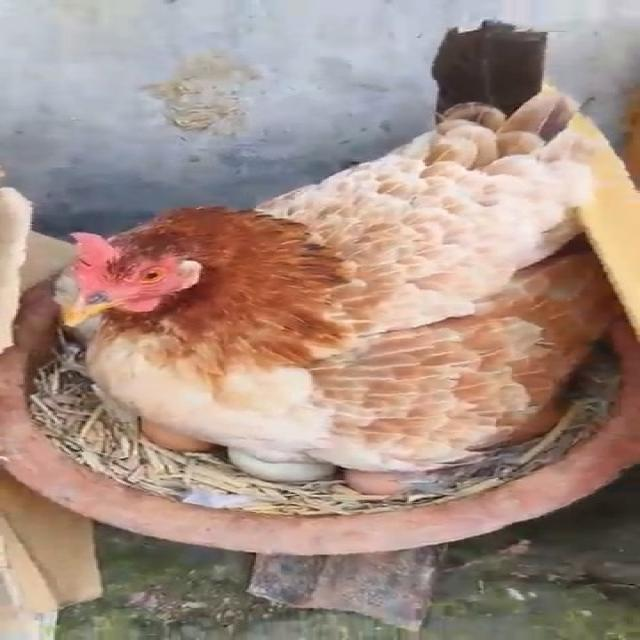crouch chicken: (4, 16, 598, 500)
